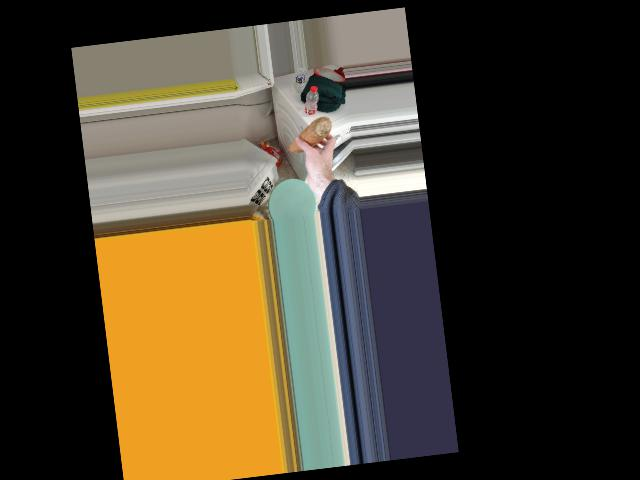sweet_potato: (285, 115, 334, 152)
